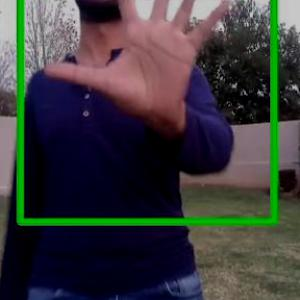follow_hand: (42, 0, 235, 137)
